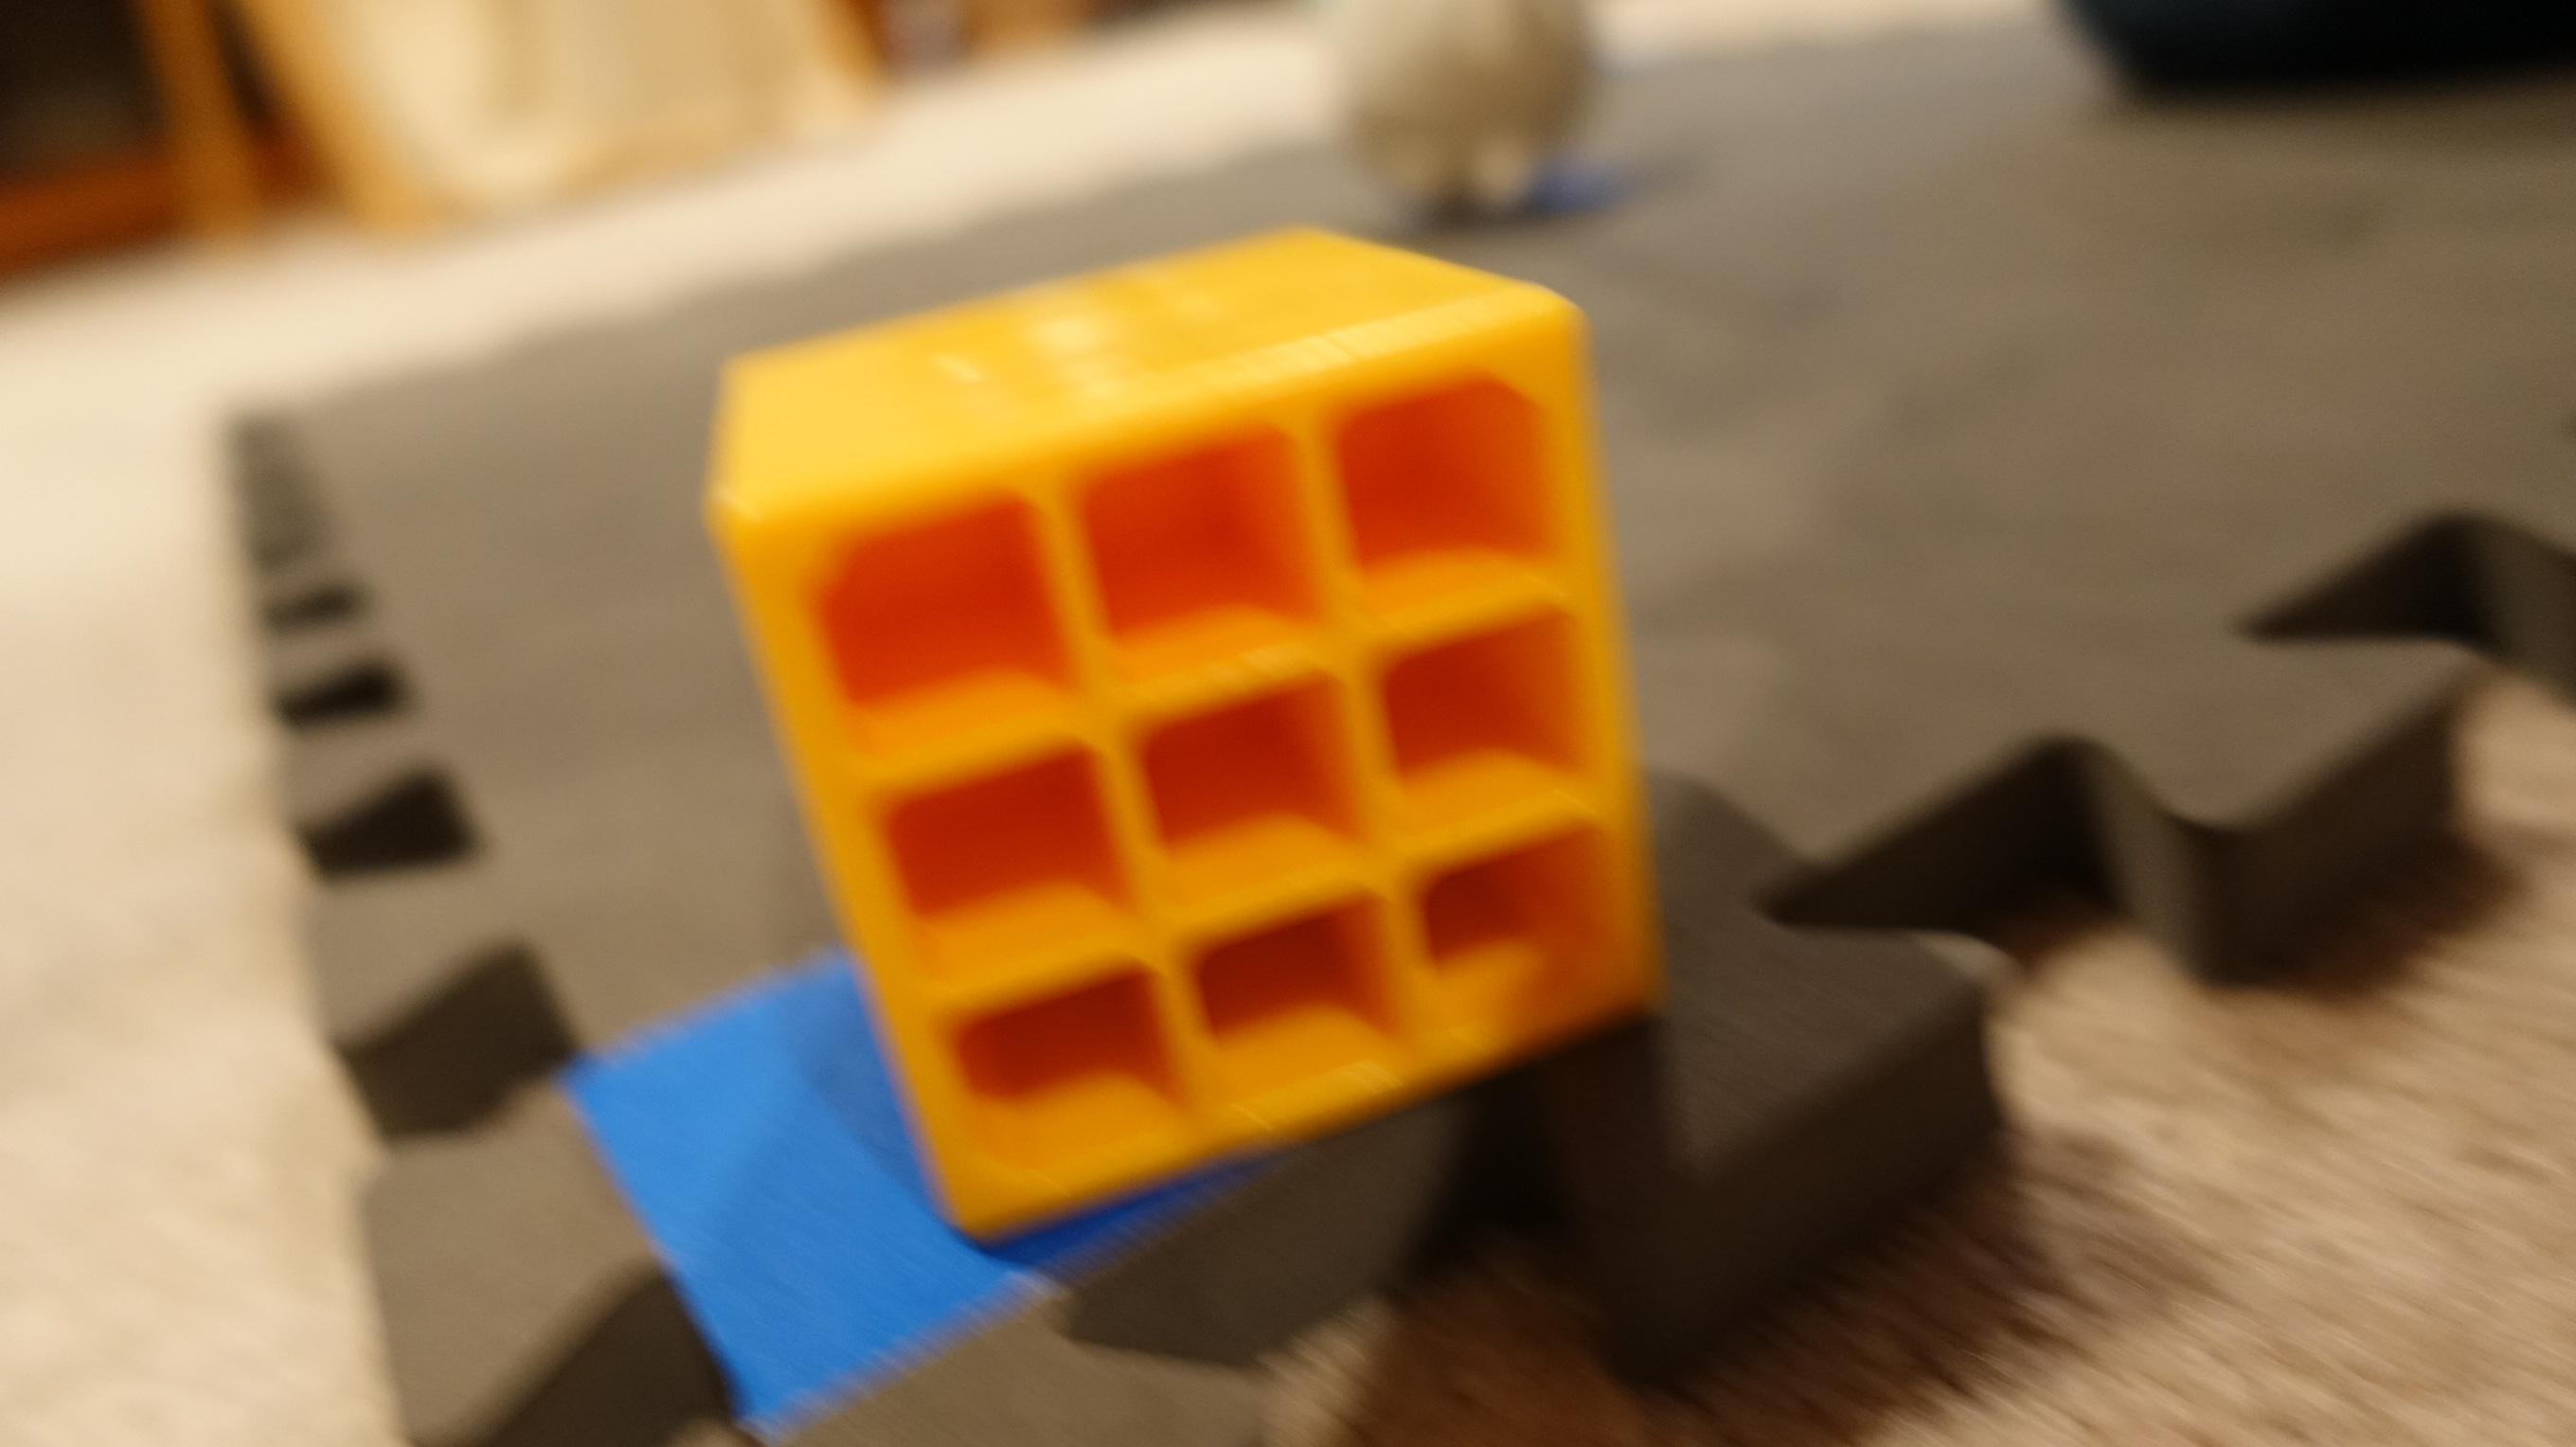gold: (665, 226, 1706, 1249)
silver: (1332, 2, 1598, 226)
